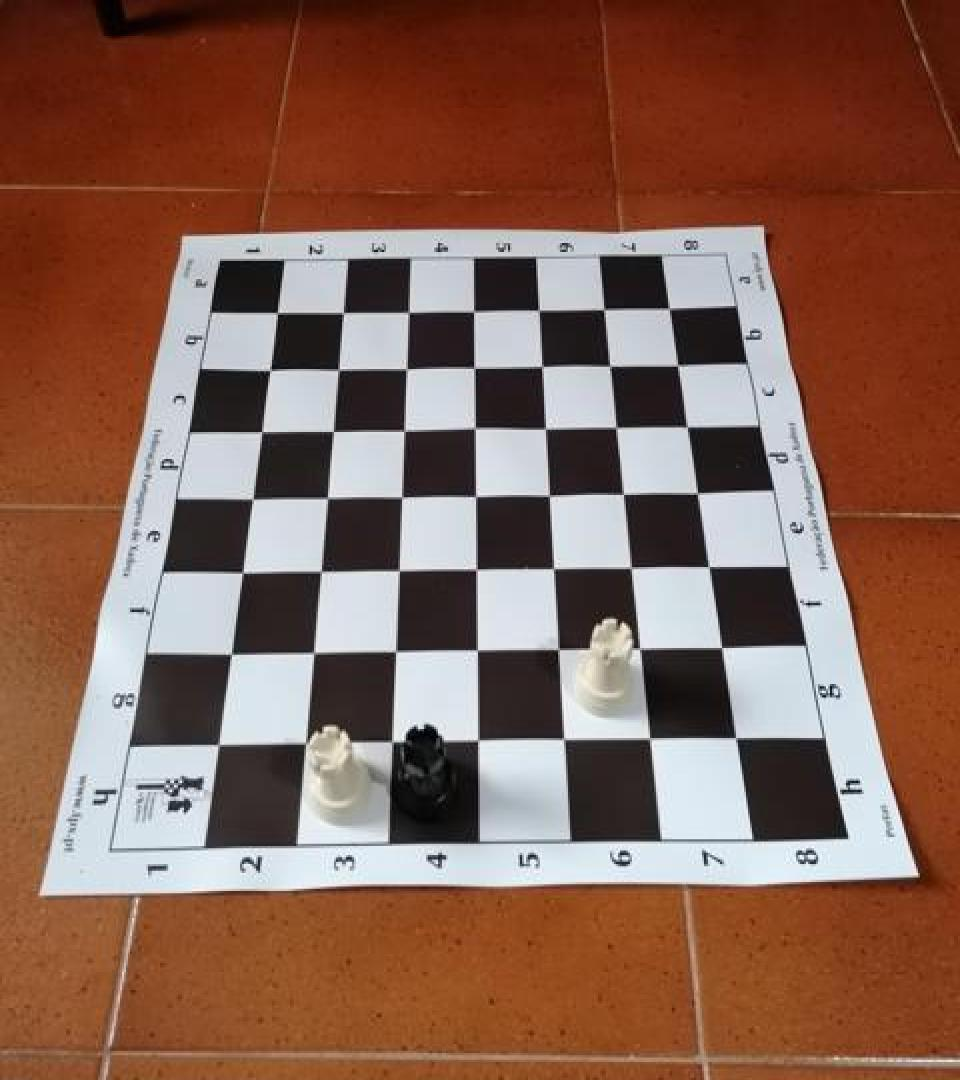xcorner: (657, 290, 687, 324), (592, 290, 622, 324), (526, 291, 556, 325), (666, 346, 696, 380), (598, 348, 628, 382), (529, 348, 559, 382), (461, 348, 491, 382), (392, 350, 422, 384), (323, 350, 353, 384), (254, 351, 284, 385), (676, 408, 706, 442), (604, 410, 634, 444), (533, 410, 563, 444), (462, 410, 492, 444), (390, 412, 420, 446), (318, 413, 348, 447), (245, 414, 275, 448), (686, 476, 716, 510), (612, 477, 642, 511), (537, 477, 567, 511), (462, 478, 492, 512), (387, 479, 417, 513), (311, 480, 341, 514), (236, 482, 266, 516), (698, 549, 728, 583), (620, 550, 650, 584), (542, 551, 572, 585), (463, 554, 493, 588), (384, 554, 414, 588), (305, 556, 335, 590), (225, 557, 255, 591), (711, 631, 741, 665), (629, 632, 659, 666), (546, 633, 576, 667), (381, 636, 411, 670), (297, 638, 327, 672), (214, 640, 244, 674), (725, 721, 755, 755), (639, 722, 669, 756), (465, 726, 495, 760), (377, 728, 407, 762), (289, 730, 319, 764), (201, 732, 231, 766), (460, 293, 490, 326), (394, 293, 424, 326), (328, 294, 358, 327), (262, 294, 292, 327), (464, 636, 494, 669), (552, 725, 582, 758)
